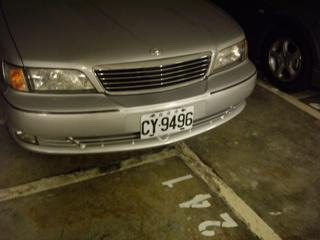plate: (138, 110, 194, 134)
